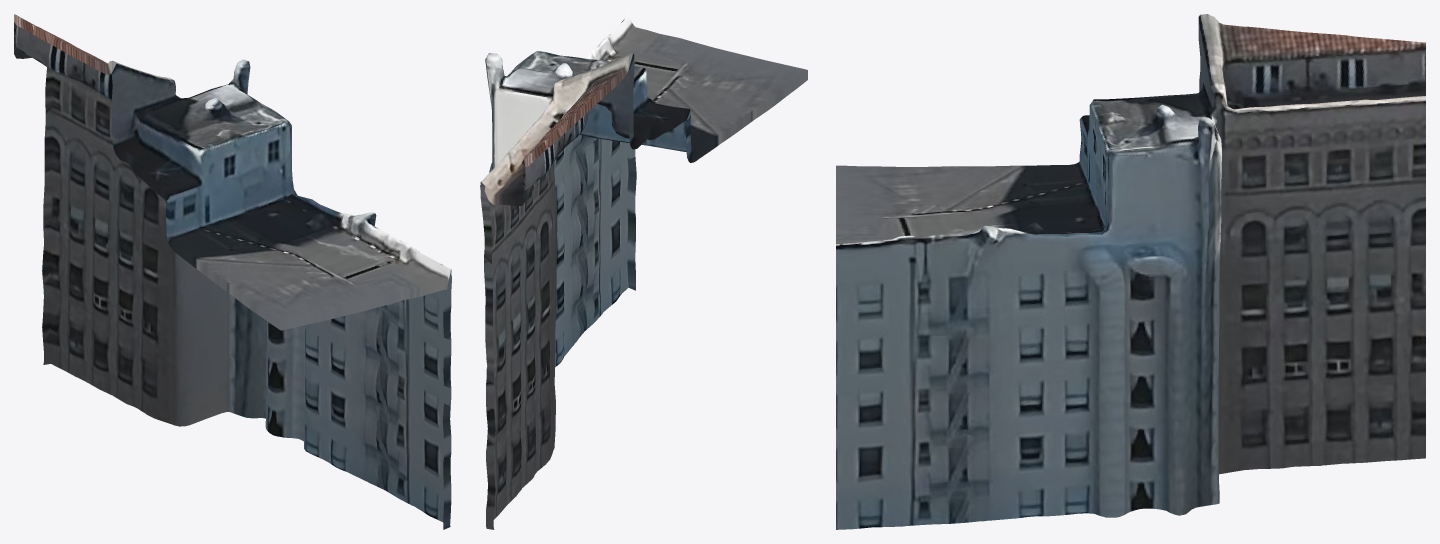
The model's file is z20-167744-405246-h1-yup-uvflip-v3-world.glb.
The picture shows the model from 3 angles, left to right: view 1: azimuth 30°, elevation 25°; view 2: azimuth 150°, elevation 25°; view 3: azimuth 270°, elevation 25°; orthographic projection. The views are drawn at different scales.
Bounding box in the file's own units: 11.2 × 24.16 × 30.32.
Materials: 1 (1 with a texture image).
